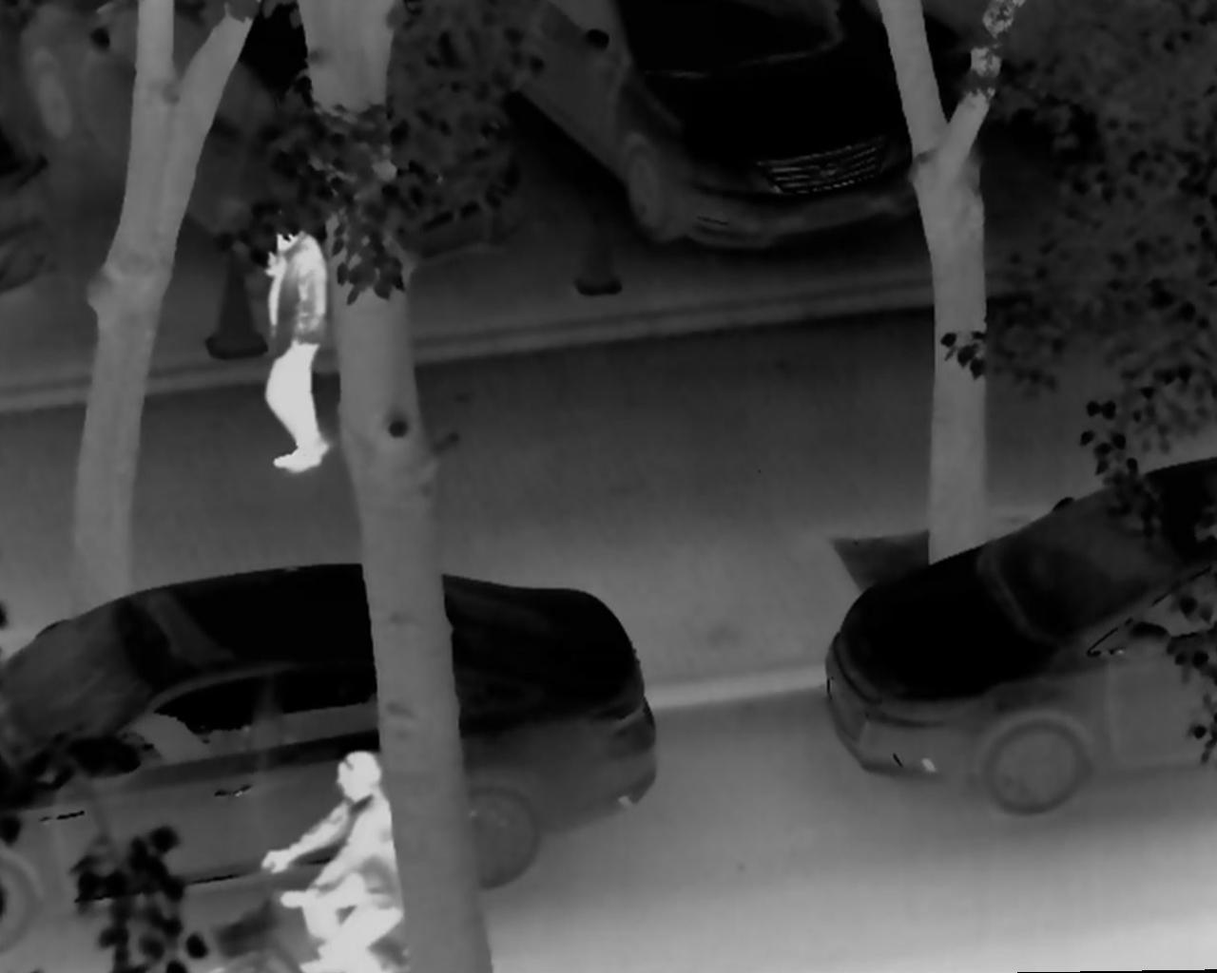person: (264, 739, 404, 973), (249, 209, 334, 479)
